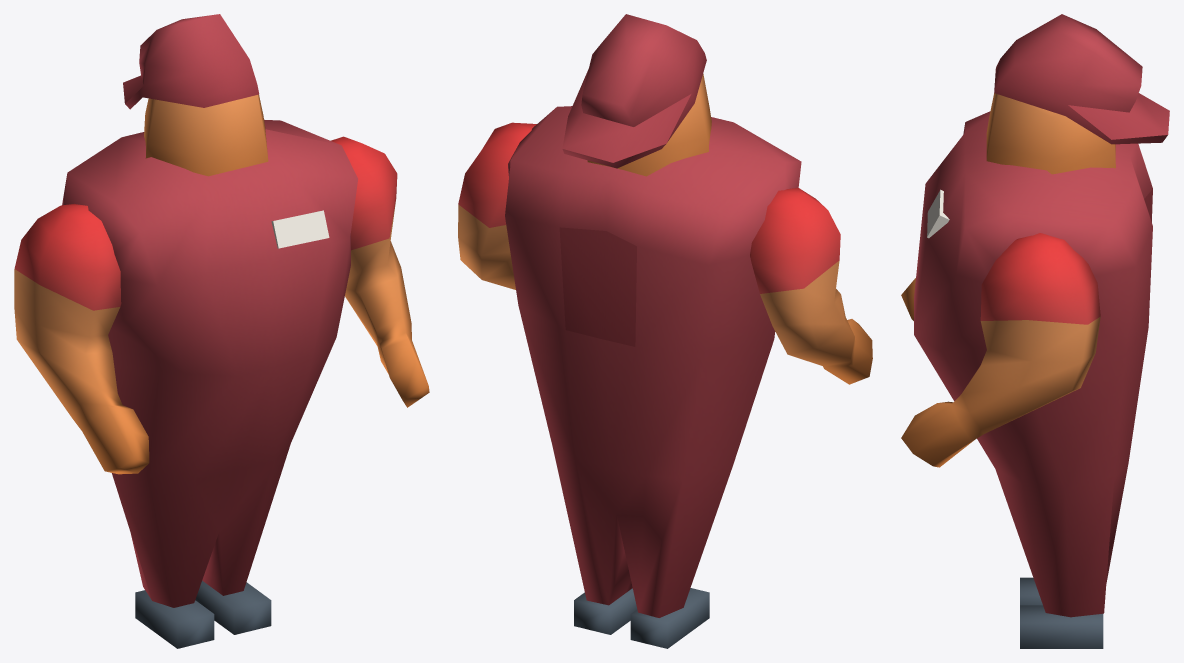
Rendered from Char_Mover02.fbx.
3 renders of one model, left to right at view 1: azimuth 30°, elevation 25°; view 2: azimuth 150°, elevation 25°; view 3: azimuth 270°, elevation 25°, orthographic.
Parts seen in each view (by area): view 1: Mover_Body, Mover_RArm, Mover_Head, Mover_LArm, Mover_RFoot, Mover_LFoot; view 2: Mover_Body, Mover_Head, Mover_RArm, Mover_LArm, Mover_RFoot, Mover_LFoot; view 3: Mover_Body, Mover_LArm, Mover_Head, Mover_LFoot, Mover_RFoot.
Part boxes in pixels (bbox=[...]): Mover_Body: bbox=[62, 119, 357, 607]; Mover_RArm: bbox=[14, 203, 149, 474]; Mover_Head: bbox=[123, 14, 268, 176]; Mover_LArm: bbox=[330, 136, 429, 407]; Mover_RFoot: bbox=[135, 590, 214, 648]; Mover_LFoot: bbox=[195, 580, 271, 634]; Mover_Body: bbox=[505, 106, 801, 617]; Mover_Head: bbox=[562, 14, 711, 176]; Mover_RArm: bbox=[750, 187, 872, 384]; Mover_LArm: bbox=[458, 122, 536, 289]; Mover_RFoot: bbox=[630, 588, 709, 648]; Mover_LFoot: bbox=[574, 588, 636, 634]; Mover_Body: bbox=[914, 111, 1152, 617]; Mover_LArm: bbox=[901, 233, 1100, 467]; Mover_Head: bbox=[986, 14, 1169, 174]; Mover_LFoot: bbox=[1020, 605, 1103, 648]; Mover_RFoot: bbox=[1020, 577, 1042, 605].
Bounding box in the file's own units: 256 × 412 × 167.
